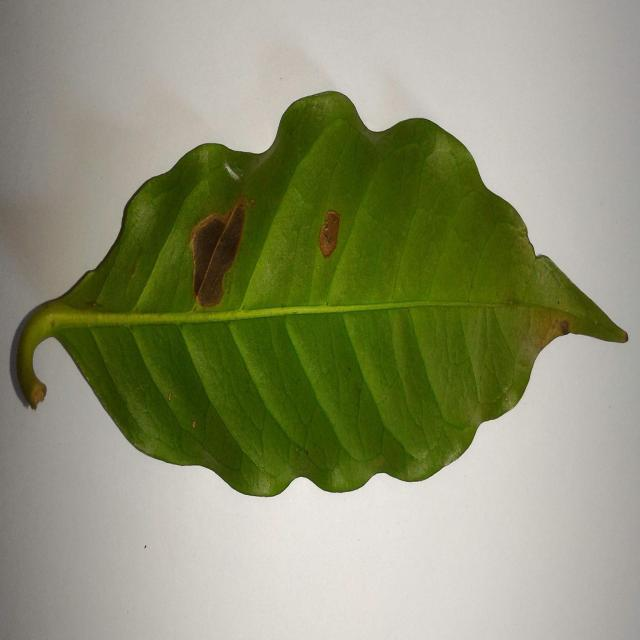miner: (191, 196, 255, 311), (319, 210, 341, 258), (550, 312, 572, 335)
